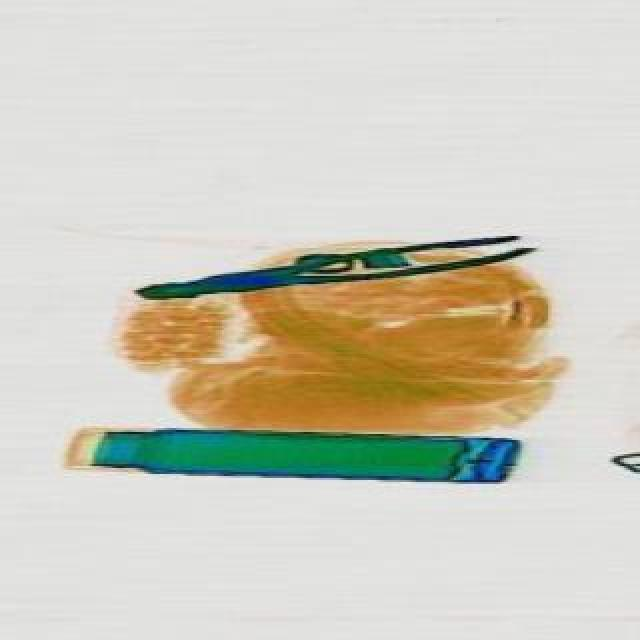wrench: (126, 224, 530, 312)
